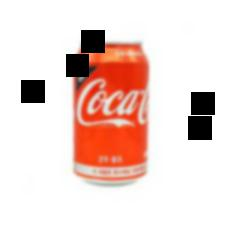cocacola: (67, 35, 153, 189)
